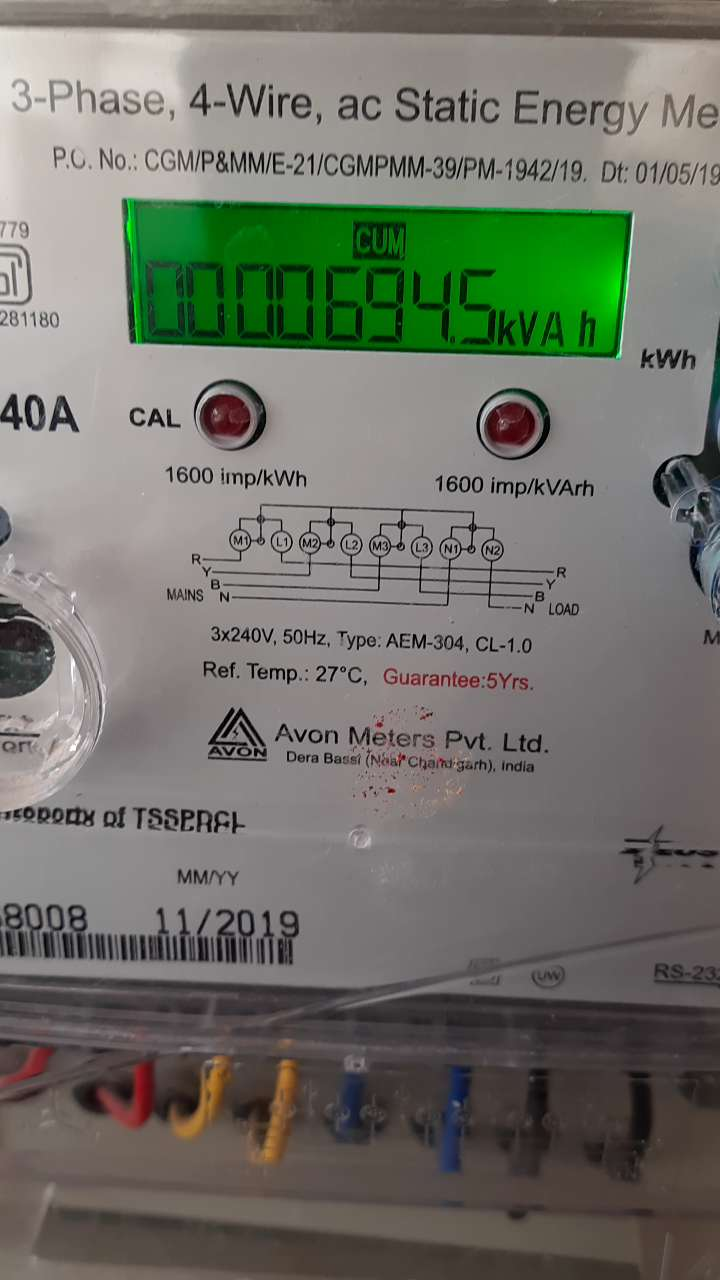meter_serial_number: (1, 886, 98, 935)
